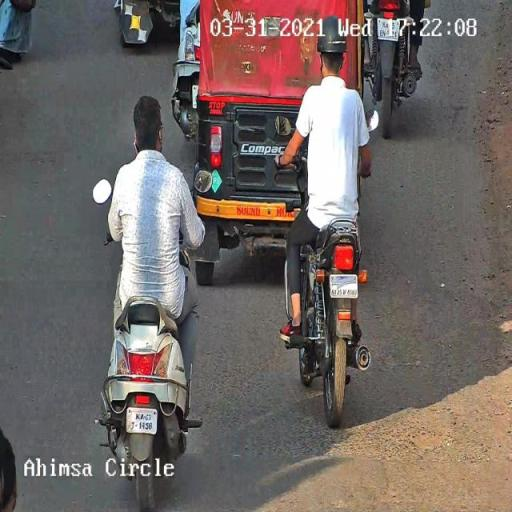numberplate: (126, 406, 158, 435)
using mobile: (132, 134, 140, 160)
